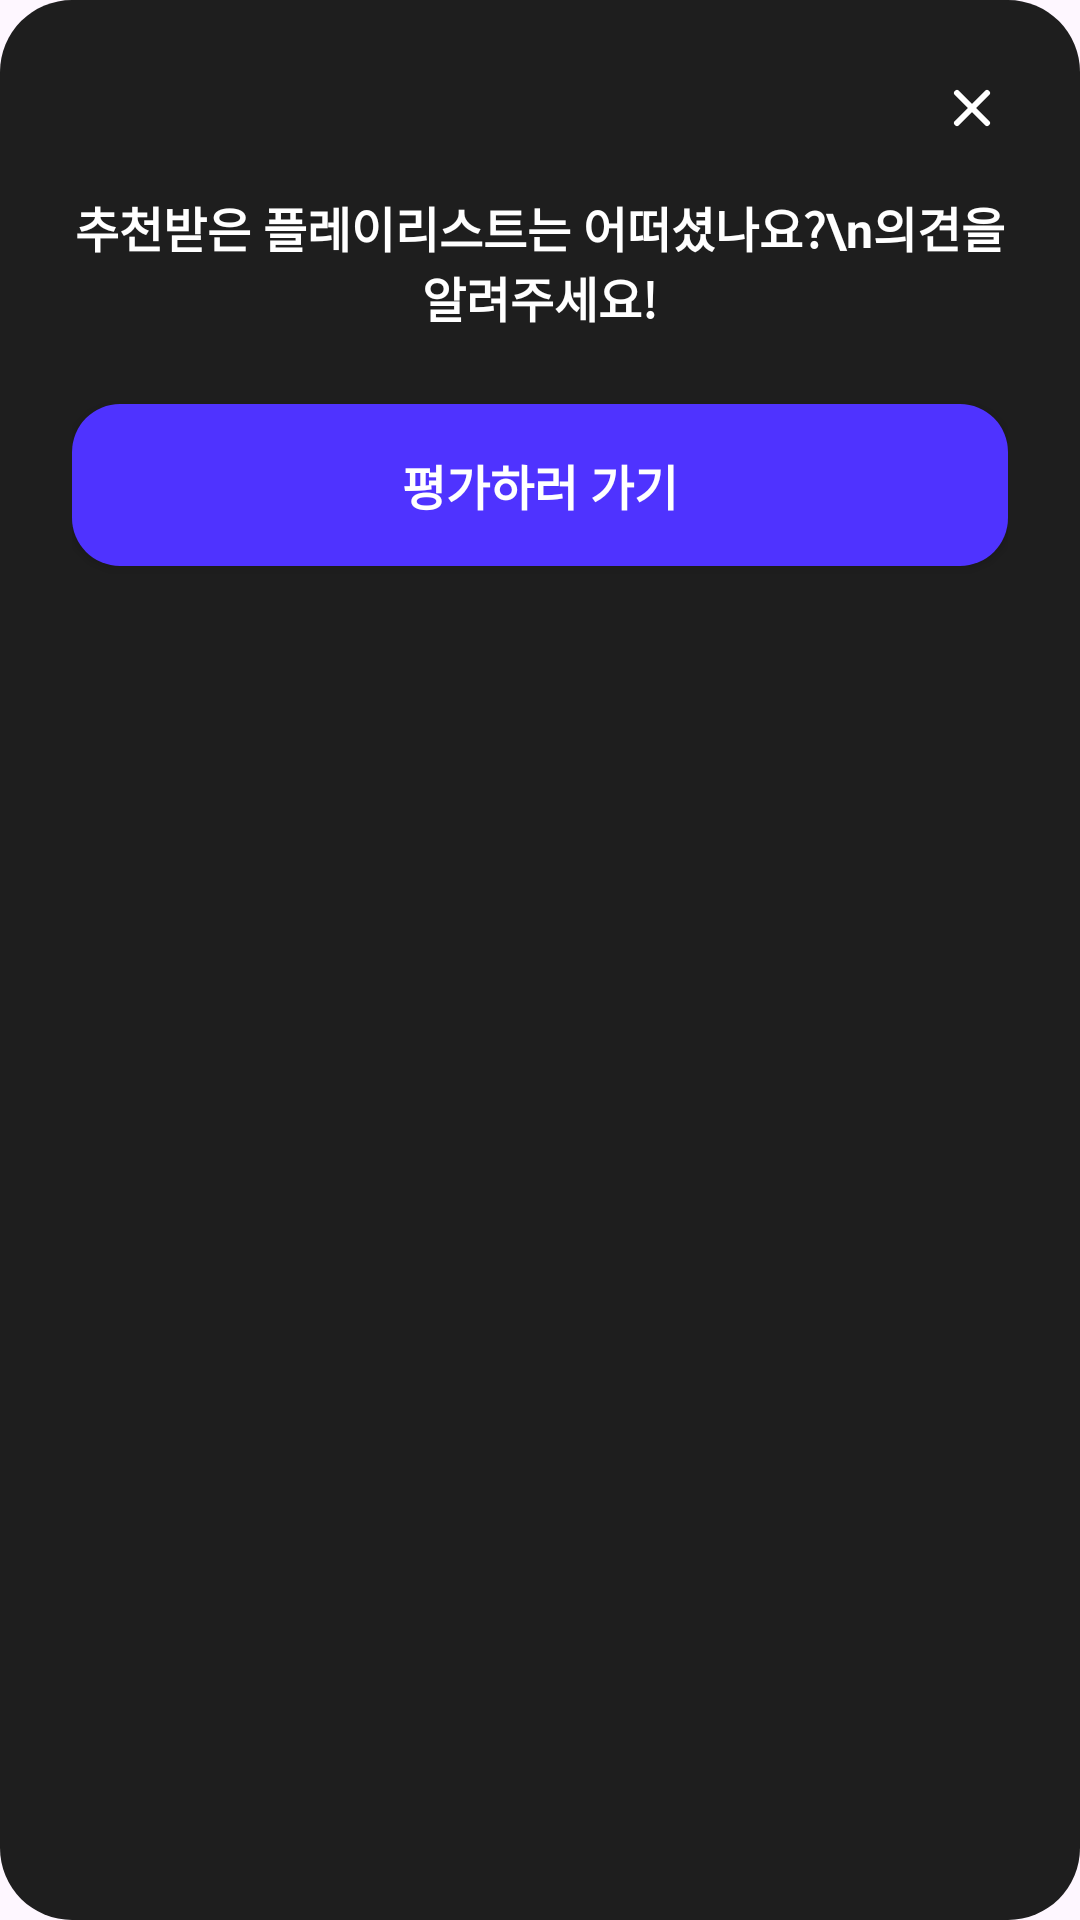

Screen size 1080x1920. Icon name, then its center in pixels as (x,y):
close: (972,108)
